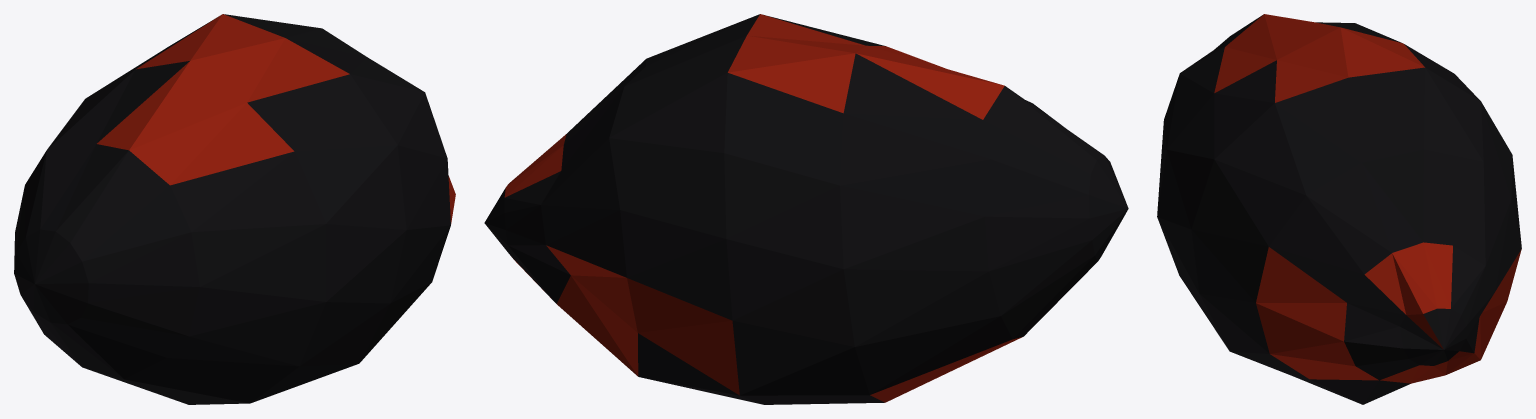
File: DISASTER_05_VolcanicBomb.obj
The picture shows the model from 3 angles, left to right: view 1: azimuth 30°, elevation 25°; view 2: azimuth 150°, elevation 25°; view 3: azimuth 270°, elevation 25°; orthographic projection. The views are drawn at different scales.
Parts seen in each view (by area): view 1: DISASTER_05_VolcanicBomb_Bomb; view 2: DISASTER_05_VolcanicBomb_Bomb; view 3: DISASTER_05_VolcanicBomb_Bomb.
Part boxes in pixels (x1,y1,x2,y2): DISASTER_05_VolcanicBomb_Bomb: (14, 14, 455, 404); DISASTER_05_VolcanicBomb_Bomb: (484, 14, 1128, 404); DISASTER_05_VolcanicBomb_Bomb: (1157, 14, 1521, 404).
Bounding box in the file's own units: 0.8118 × 0.5032 × 0.5339.
